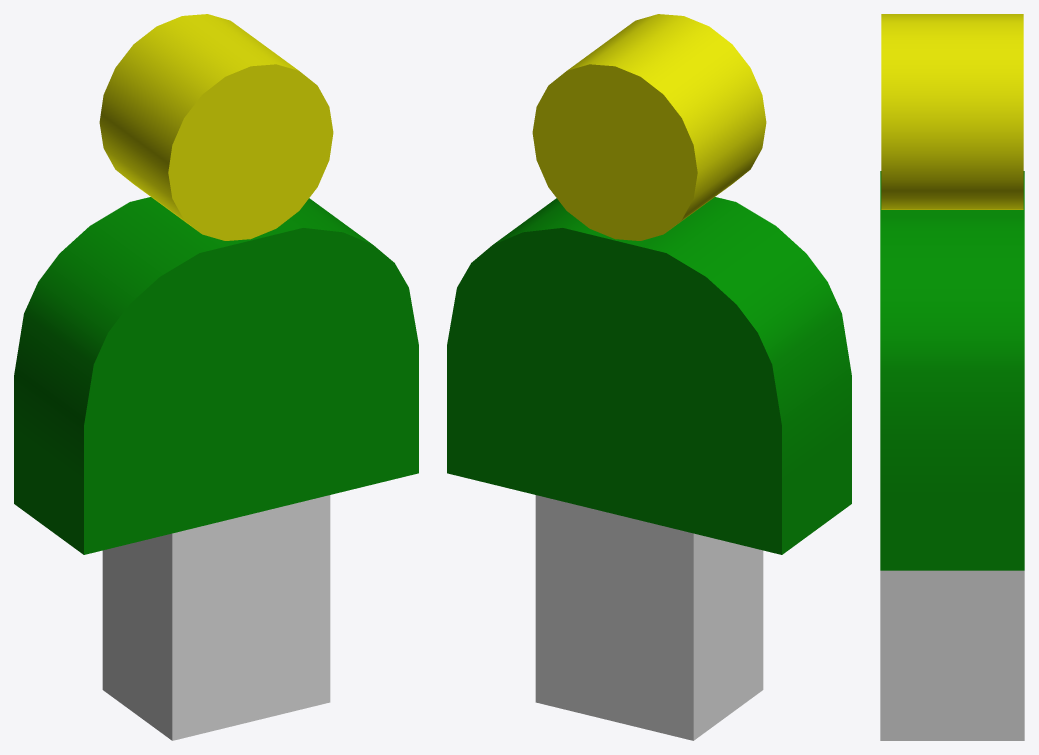
Rendered from person.fbx.
3 renders of one model, left to right at view 1: azimuth 30°, elevation 25°; view 2: azimuth 150°, elevation 25°; view 3: azimuth 270°, elevation 25°, orthographic. The views are drawn at different scales.
Parts seen in each view (by area): view 1: pCube1, pCylinder1; view 2: pCube1, pCylinder1; view 3: pCube1, pCylinder1.
Part boxes in pixels (bbox=[...]): pCube1: bbox=[14, 197, 418, 740]; pCylinder1: bbox=[99, 14, 333, 240]; pCube1: bbox=[447, 197, 851, 740]; pCylinder1: bbox=[532, 14, 766, 240]; pCube1: bbox=[880, 171, 1024, 740]; pCylinder1: bbox=[881, 14, 1023, 209].
Bounding box in the file's own units: 5.85 × 10.94 × 2.11.
